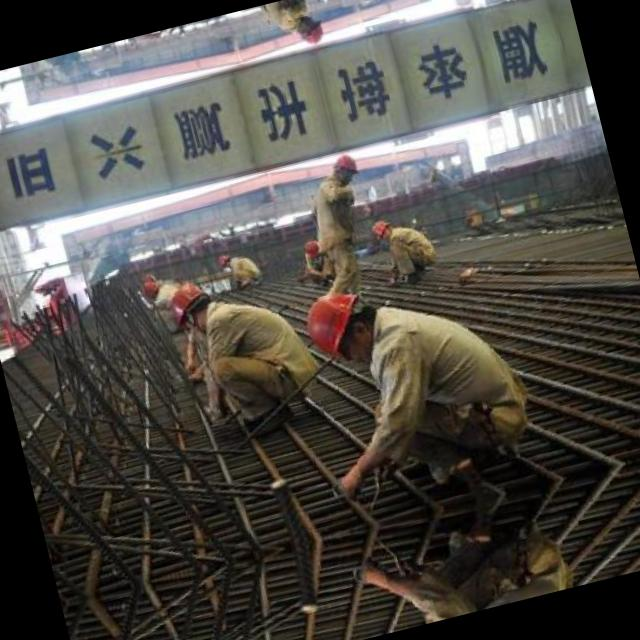helmet: (292, 276, 388, 372), (161, 272, 218, 338), (326, 146, 362, 185), (292, 12, 328, 50), (364, 212, 398, 242), (134, 274, 160, 300), (301, 232, 325, 259), (210, 248, 234, 267)
